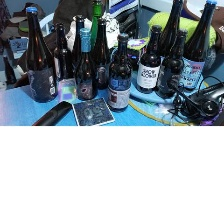bottle: (177, 0, 220, 93), (20, 3, 59, 103), (153, 25, 189, 102), (105, 30, 133, 113), (155, 0, 188, 66), (73, 26, 100, 103), (134, 23, 162, 94), (91, 15, 112, 92), (51, 18, 73, 80), (71, 13, 90, 78), (89, 0, 106, 47)
